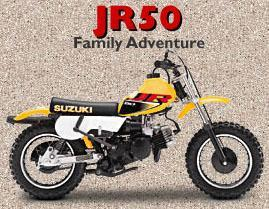motorcycle: (1, 40, 269, 204)
